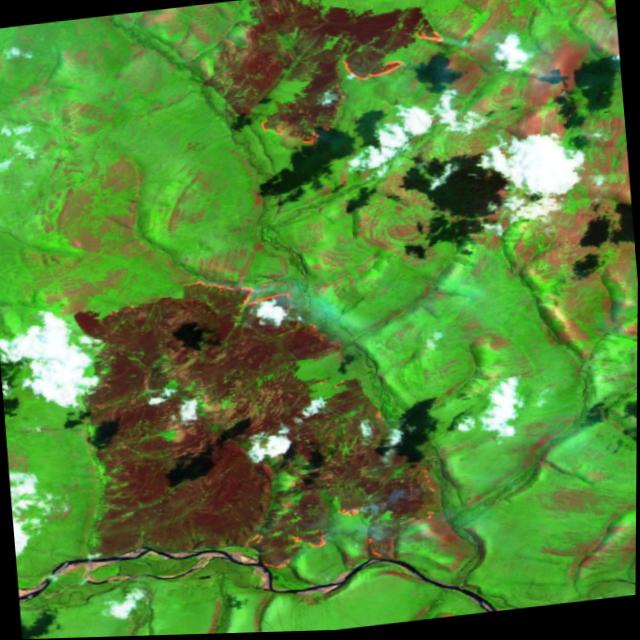fire: (327, 15, 459, 89), (177, 259, 305, 319), (224, 109, 337, 163)
